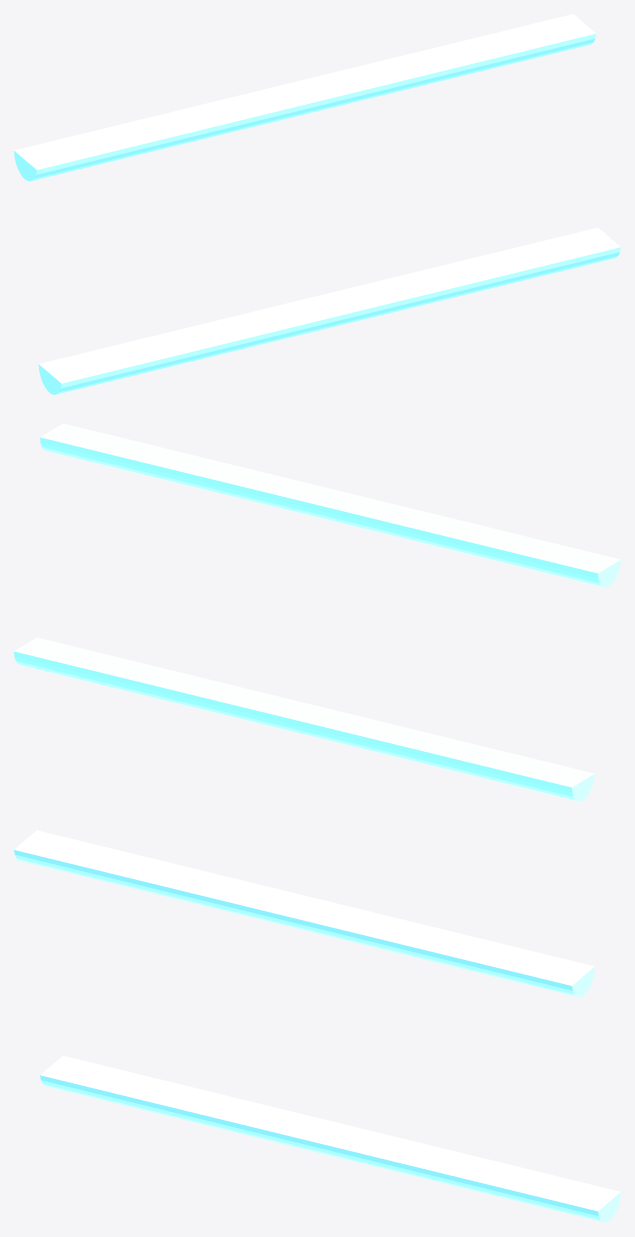
Rendered from LYSROR.fbx.
3 renders of one model, top to bottom at view 1: azimuth 30°, elevation 25°; view 2: azimuth 150°, elevation 25°; view 3: azimuth 330°, elevation 25°, orthographic.
Visible parts, largest first — view 1: lysror; view 2: lysror; view 3: lysror.
Boxes of the visible parts, <box> form: lysror: <box>14,14,620,394</box>; lysror: <box>14,423,620,801</box>; lysror: <box>14,830,620,1222</box>.
Bounding box in the file's own units: 2.03 × 0.8017 × 0.1427.
